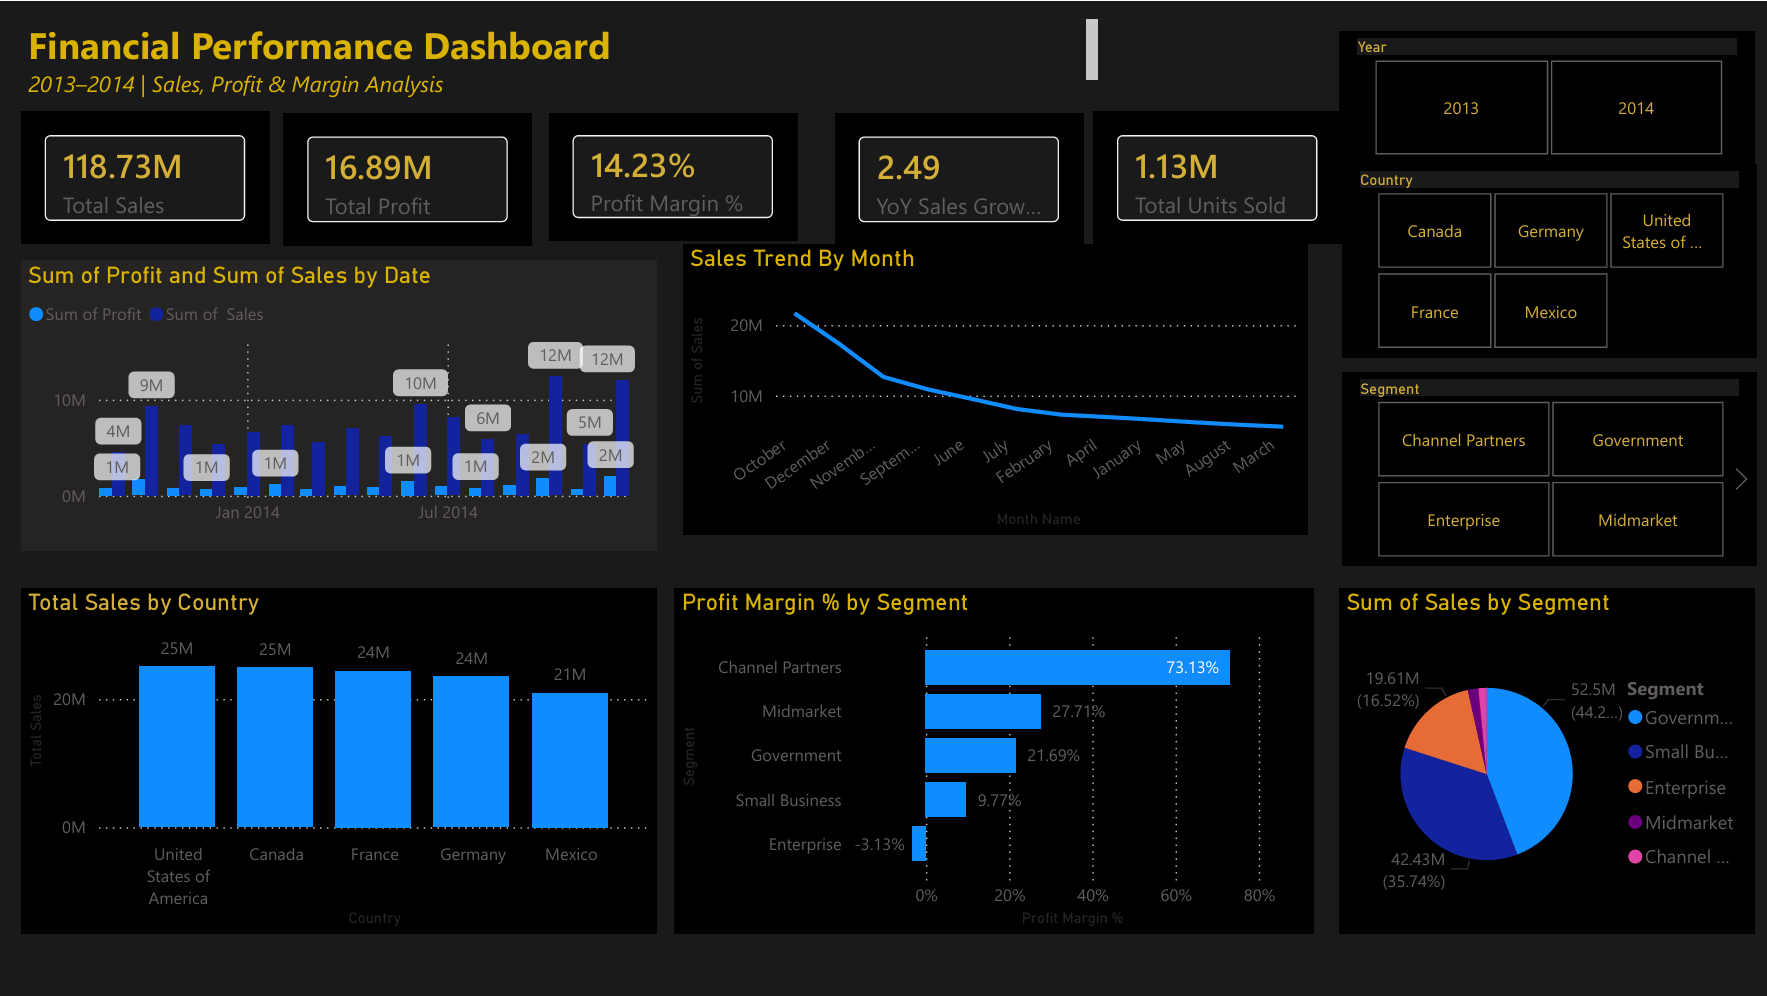

What the dashboard file says about the page in this screenshot:
{"tool":"powerbi","page":{"name":"Dashboard","canvas":[1280,720],"ordinal":0},"visuals":[{"type":"cardVisual","fields":{"Data":["DateTable.Profit Margin %"]},"box":[397.9,79.6,179.8,94.7],"z":0},{"type":"columnChart","fields":{"Category":["Sheet1.Country"],"Y":["DateTable.Total Sales"]},"box":[16.5,425.4,459.7,249.7],"z":1000},{"type":"slicer","fields":{"Values":["DateTable.Year"]},"box":[970.2,22,300.5,96.1],"z":2000},{"type":"slicer","fields":{"Values":["Sheet1.Country"]},"box":[971.5,118,300.5,140],"z":3000},{"type":"slicer","fields":{"Values":["Sheet1.Segment"]},"box":[971.5,269,300.5,140],"z":4000},{"type":"textbox","box":[16.5,8.2,783.5,72.7],"z":5000},{"type":"cardVisual","fields":{"Data":["DateTable.Total Profit"]},"box":[205.8,81,179.8,96.1],"z":6000},{"type":"cardVisual","fields":{"Data":["DateTable.Total Sales"]},"box":[16.5,79.6,179.8,96.1],"z":7000},{"type":"cardVisual","fields":{"Data":["DateTable.Total Units Sold"]},"box":[791.8,79.6,179.8,96.1],"z":8000},{"type":"cardVisual","fields":{"Data":["DateTable.YoY Sales Growth %"]},"box":[605.1,81,179.8,96.1],"z":9000},{"type":"clusteredBarChart","fields":{"Category":["Sheet1.Segment"],"Y":["DateTable.Profit Margin %"]},"box":[488.5,425.4,463.8,249.7],"z":11000},{"type":"lineChart","title":"Sales Trend By Month","fields":{"Category":["Sheet1.Month Name"],"Y":["Sum(Sheet1. Sales)"]},"box":[495.4,175.6,451.5,209.9],"z":12000},{"type":"pieChart","fields":{"Category":["Sheet1.Segment"],"Y":["Sum(Sheet1. Sales)"]},"box":[970.2,425.4,300.5,249.7],"z":13000},{"type":"lineClusteredColumnComboChart","fields":{"Category":["Sheet1.Date"],"Y":["Sum(Sheet1.Profit)","Sum(Sheet1. Sales)"]},"box":[16.5,188,459.7,209.9],"z":13001}]}

Visuals, with their boxes in screenshot pixels (x1, y1, x2, y2), scaled from the page's 1280x720 canvas onto the 1767x996 screenshot:
cardVisual - DateTable.Profit Margin %: x1=549, y1=110, x2=797, y2=241
columnChart - Sheet1.Country x DateTable.Total Sales: x1=23, y1=588, x2=657, y2=934
slicer - DateTable.Year: x1=1339, y1=30, x2=1754, y2=163
slicer - Sheet1.Country: x1=1341, y1=163, x2=1756, y2=357
slicer - Sheet1.Segment: x1=1341, y1=372, x2=1756, y2=566
textbox: x1=23, y1=11, x2=1104, y2=112
cardVisual - DateTable.Total Profit: x1=284, y1=112, x2=532, y2=245
cardVisual - DateTable.Total Sales: x1=23, y1=110, x2=271, y2=243
cardVisual - DateTable.Total Units Sold: x1=1093, y1=110, x2=1341, y2=243
cardVisual - DateTable.YoY Sales Growth %: x1=835, y1=112, x2=1084, y2=245
clusteredBarChart - Sheet1.Segment x DateTable.Profit Margin %: x1=674, y1=588, x2=1315, y2=934
"Sales Trend By Month" lineChart: x1=684, y1=243, x2=1307, y2=533
pieChart - Sheet1.Segment x Sum(Sheet1. Sales): x1=1339, y1=588, x2=1754, y2=934
lineClusteredColumnComboChart - Sheet1.Date x Sum(Sheet1.Profit): x1=23, y1=260, x2=657, y2=550
